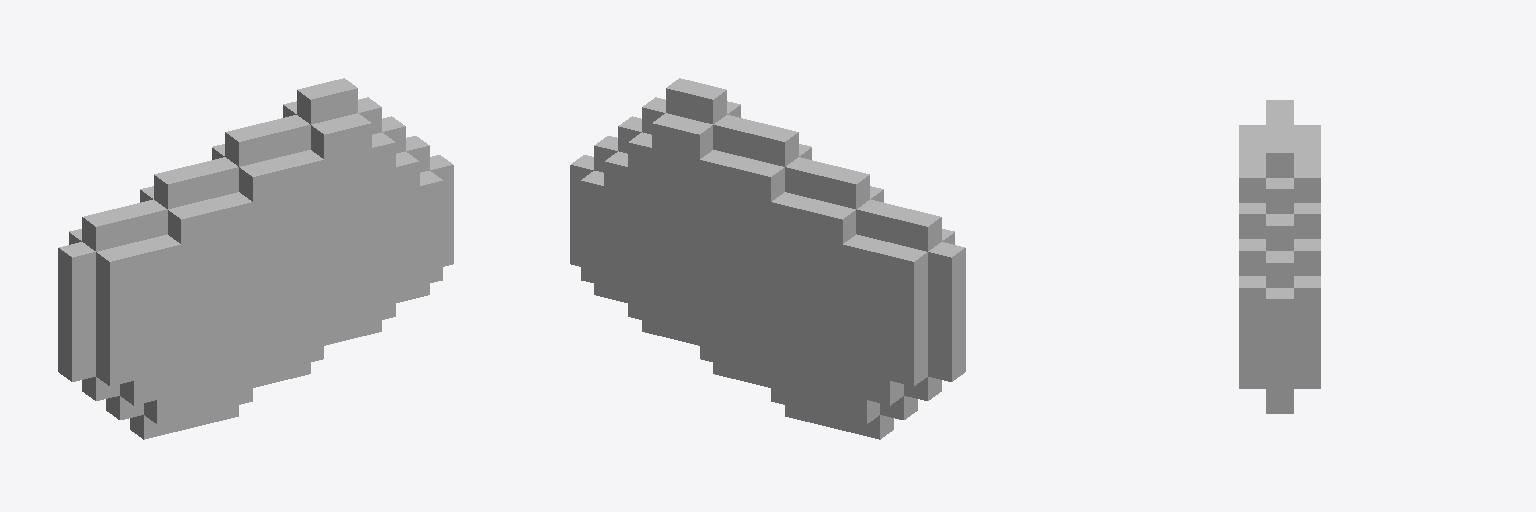
Rendered from ingot.obj.
3 views of the same model, side by side, from view 1: azimuth 30°, elevation 25°; view 2: azimuth 150°, elevation 25°; view 3: azimuth 270°, elevation 25° (orthographic).
Parts seen in each view (by area): view 1: object 1; view 2: object 1; view 3: object 1.
Boxes of the visible parts, box(x1,y1,x2,y2) form: object 1: box(58, 78, 453, 439); object 1: box(570, 78, 965, 439); object 1: box(1239, 100, 1320, 413).
Size of the model in its own units: 1.6 by 1.2 by 0.3.